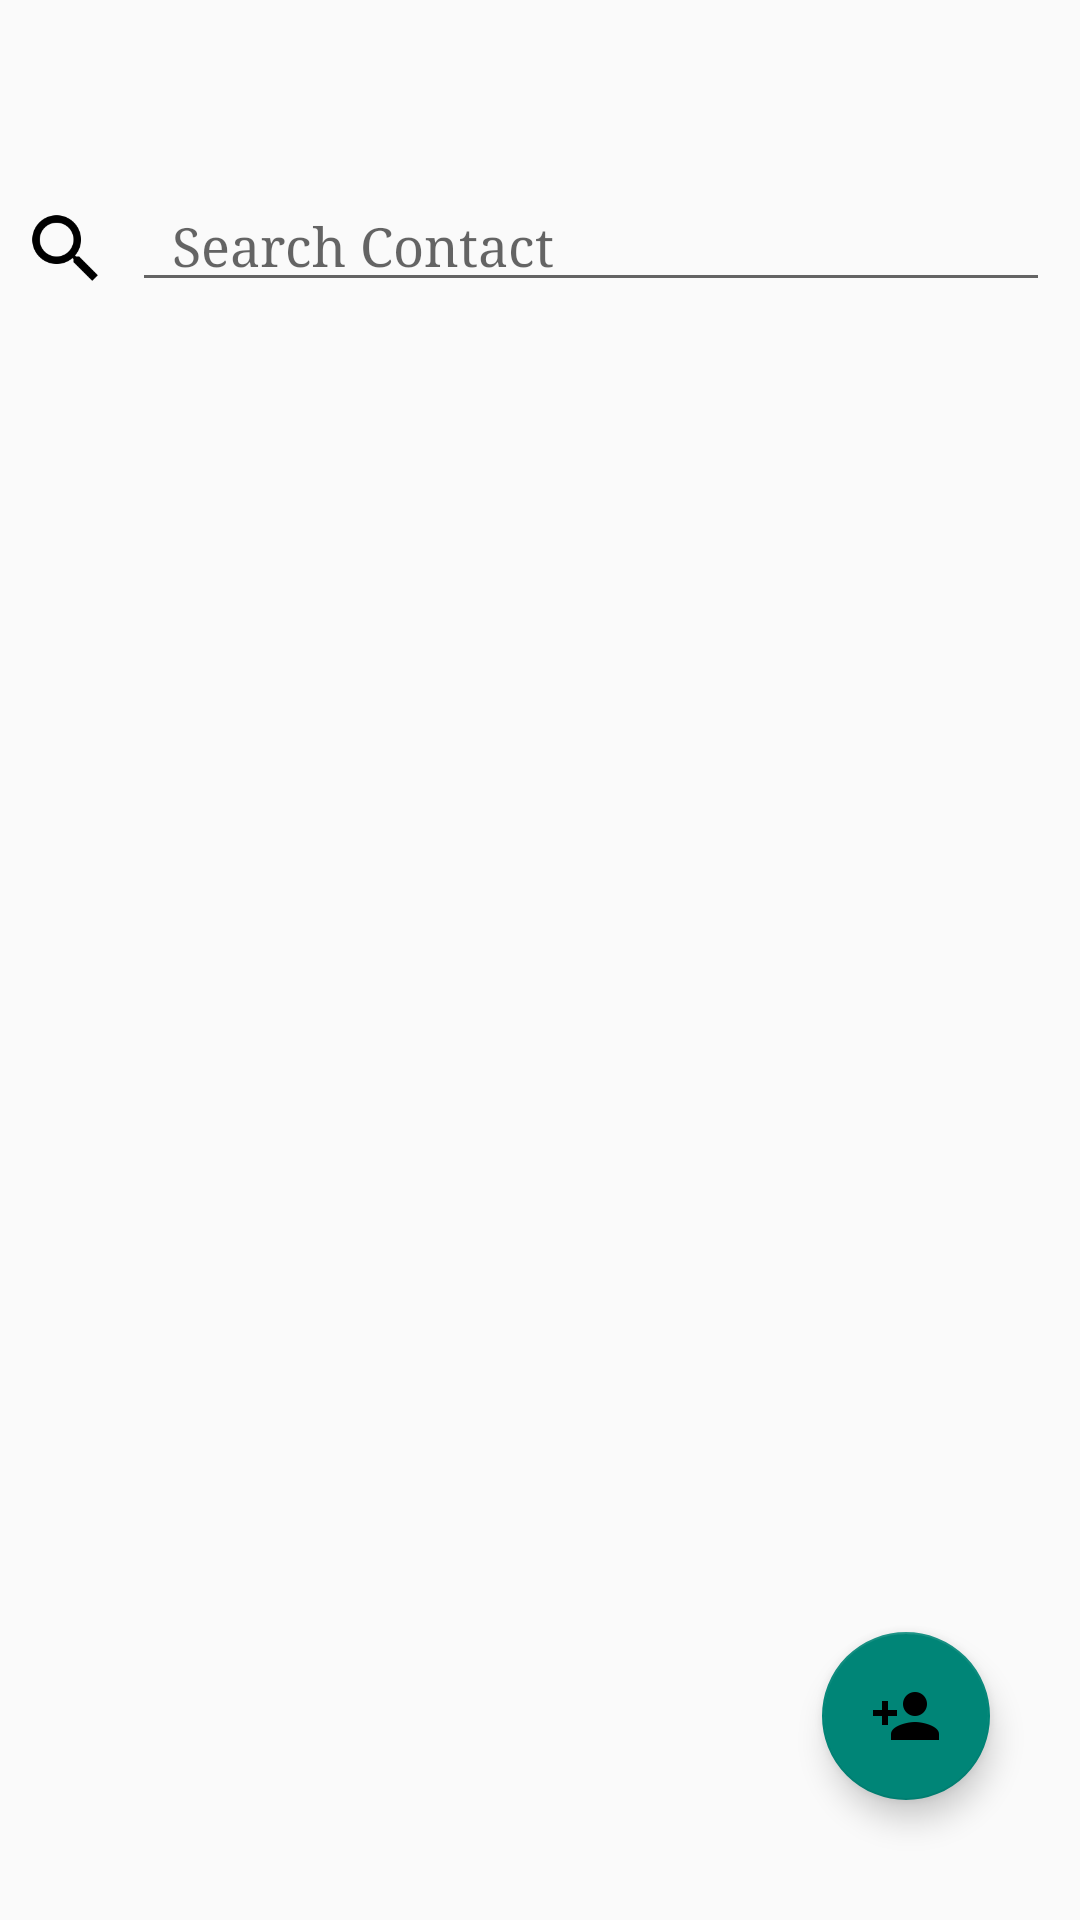

Named icons in this screenshot (1080w x 1920h) and their bounding boxes, box(x1, y1, x2, y2):
add: box(822, 1632, 990, 1800)
